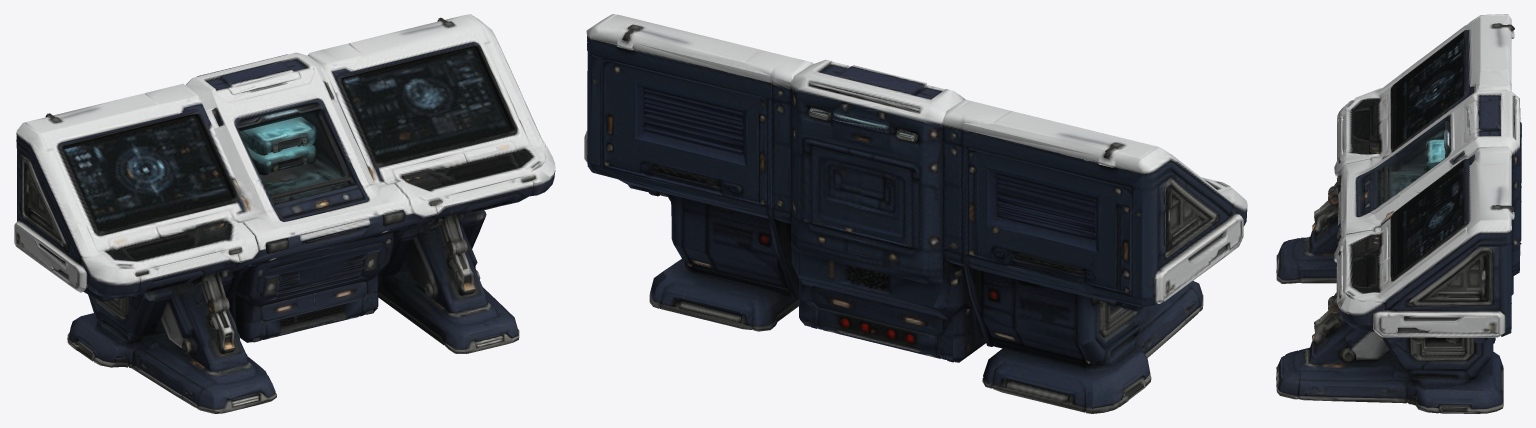
The model's file is hi3d-console-far.glb.
3 views of the same model, side by side, from view 1: azimuth 30°, elevation 25°; view 2: azimuth 150°, elevation 25°; view 3: azimuth 270°, elevation 25° (orthographic). The views are drawn at different scales.
Visible parts, largest first — view 1: world; view 2: world; view 3: world.
Part boxes in pixels (left/top/right/bottom): world: left=14, top=14, right=555, bottom=413; world: left=584, top=14, right=1247, bottom=413; world: left=1276, top=14, right=1521, bottom=413.
Size of the model in its own units: 2.8 by 1.28 by 1.33.
1 material, 1 textured.
